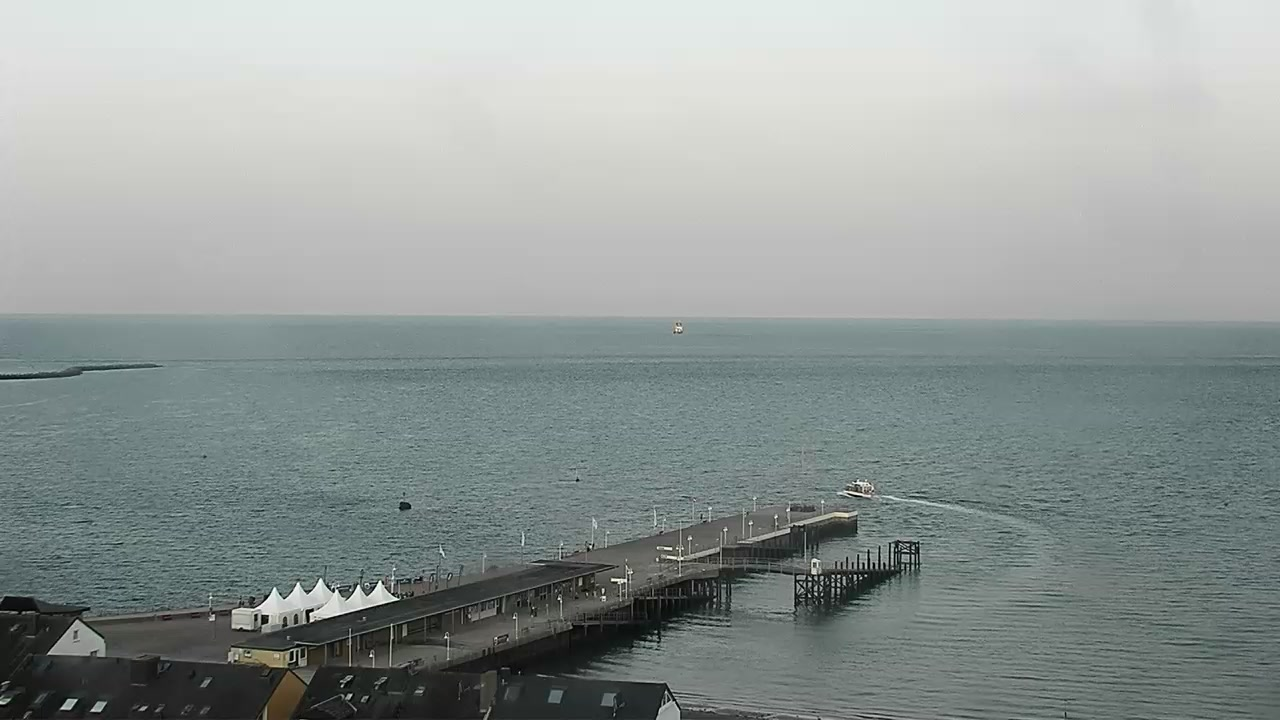human: (247, 596, 254, 607), (592, 588, 598, 599), (600, 585, 605, 596), (584, 588, 589, 599)
sea: (843, 478, 877, 498), (673, 321, 684, 334)
